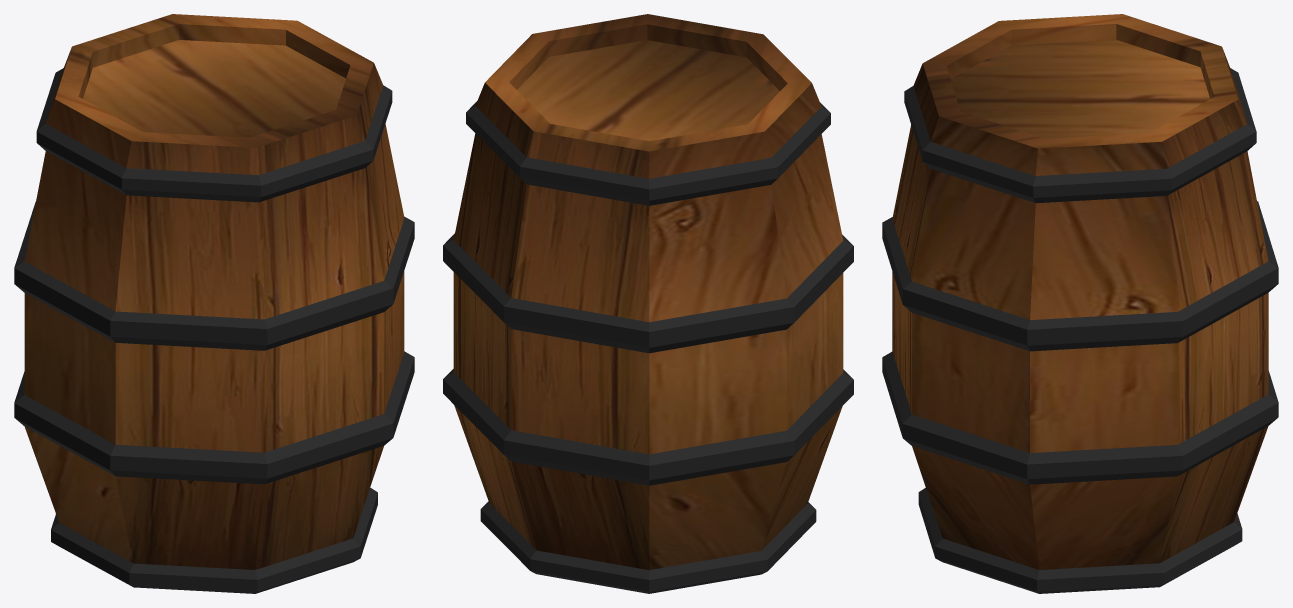
Rendered from BARREL.fbx.
3 renders of one model, left to right at view 1: azimuth 30°, elevation 25°; view 2: azimuth 150°, elevation 25°; view 3: azimuth 270°, elevation 25°, orthographic.
Visible parts, largest first — view 1: Cylinder001; view 2: Cylinder001; view 3: Cylinder001.
Part boxes in pixels (x1,y1,x2,y2): Cylinder001: (14,14,414,593); Cylinder001: (443,14,853,593); Cylinder001: (882,14,1278,593).
Bounding box in the file's own units: 3.58 × 4.41 × 3.54.
